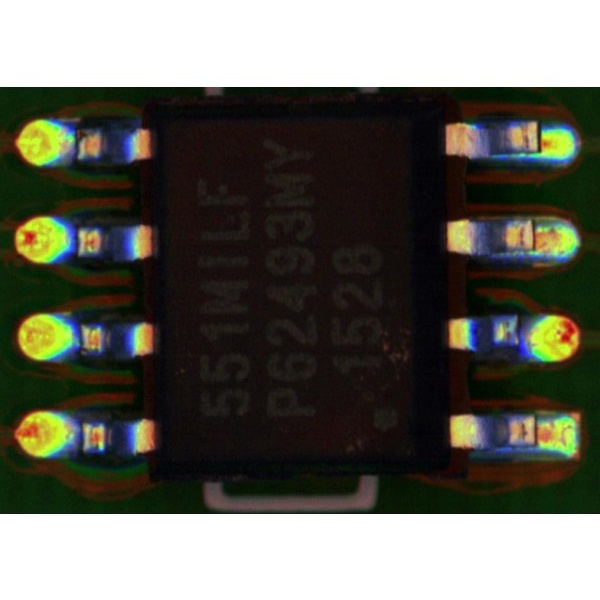Bad_podu: (528, 418, 547, 443), (525, 224, 542, 250), (531, 128, 551, 150)
Bad_qiaojiao: (486, 151, 536, 161), (476, 445, 539, 452), (489, 252, 536, 257)
